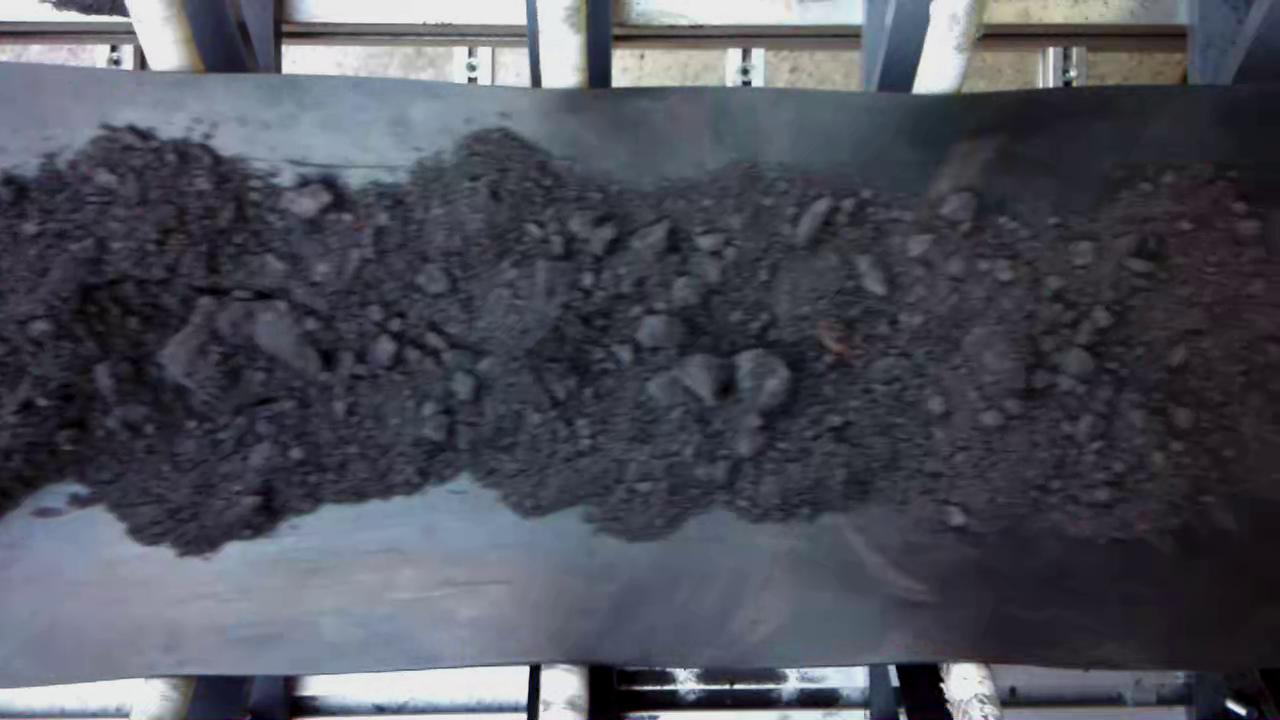conveyor: (0, 96, 1280, 660)
